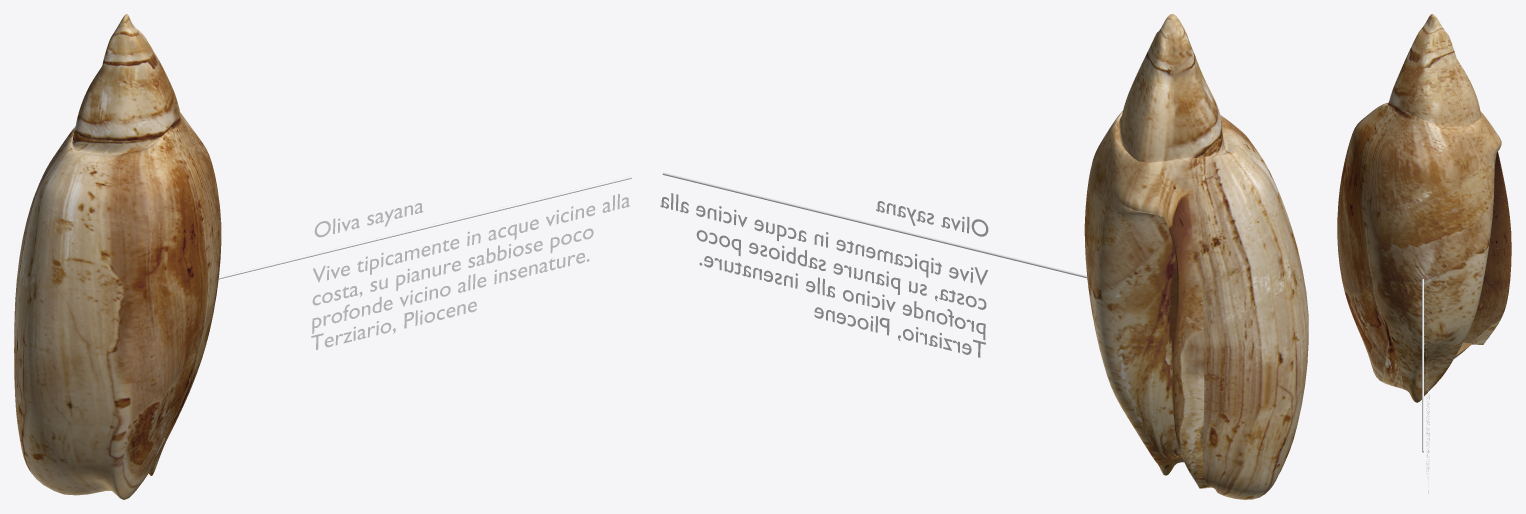
Rendered from Conchiglia.gltf.
3 renders of one model, left to right at view 1: azimuth 30°, elevation 25°; view 2: azimuth 150°, elevation 25°; view 3: azimuth 270°, elevation 25°, orthographic. The views are drawn at different scales.
Parts seen in each view (by area): view 1: Superficie_di_Suddivisione_1, Text, riga; view 2: Superficie_di_Suddivisione_1, Text, riga; view 3: Superficie_di_Suddivisione_1, riga.
Part boxes in pixels (bbox=[...]): Superficie_di_Suddivisione_1: bbox=[14, 14, 221, 499]; Text: bbox=[311, 194, 629, 349]; riga: bbox=[218, 176, 631, 279]; Superficie_di_Suddivisione_1: bbox=[1084, 14, 1308, 499]; Text: bbox=[660, 193, 988, 357]; riga: bbox=[662, 172, 1087, 278]; Superficie_di_Suddivisione_1: bbox=[1337, 14, 1511, 402]; riga: bbox=[1422, 279, 1423, 452].
Size of the model in its own units: 5.57 by 3.98 by 1.65.
Materials: 2 (1 with a texture image).
